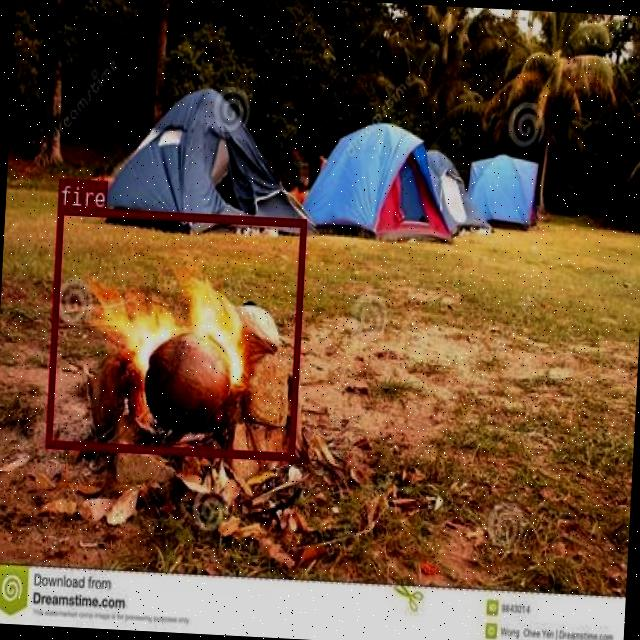fire: (44, 205, 304, 460)
